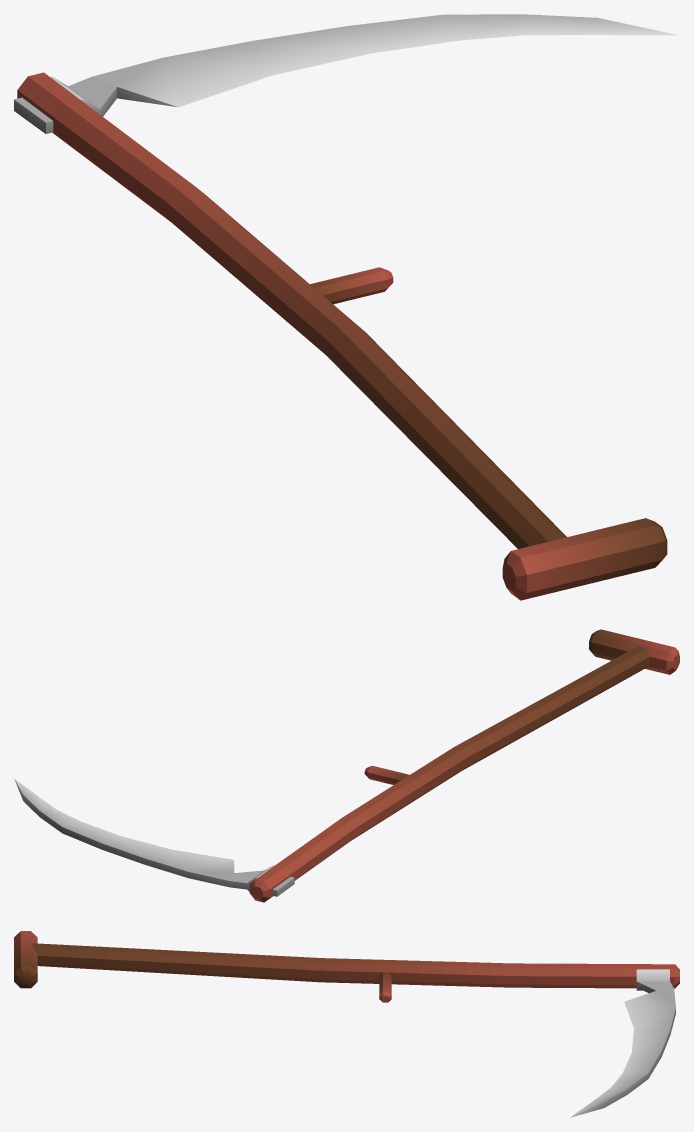
File: Scythe.fbx
The picture shows the model from 3 angles, top to bottom: view 1: azimuth 30°, elevation 25°; view 2: azimuth 150°, elevation 25°; view 3: azimuth 270°, elevation 25°; orthographic projection. The views are drawn at different scales.
Visible parts, largest first — view 1: Scythe; view 2: Scythe; view 3: Scythe.
Boxes of the visible parts, left/top/right/bottom form: Scythe: left=14, top=14, right=678, bottom=600; Scythe: left=14, top=629, right=679, bottom=902; Scythe: left=14, top=931, right=679, bottom=1117.
Size of the model in its own units: 0.0108 by 0.000643 by 0.0172.
